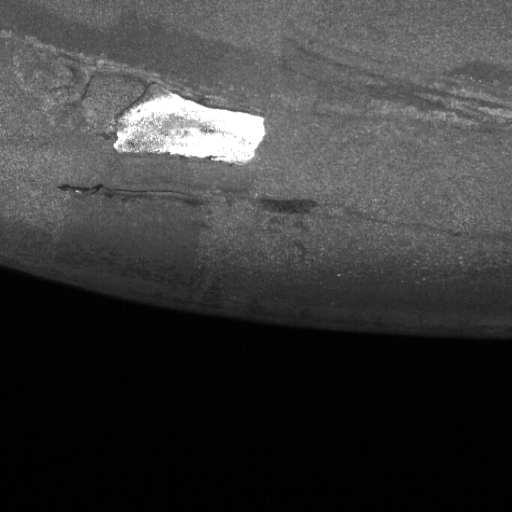qiaopi: (111, 75, 269, 167)
